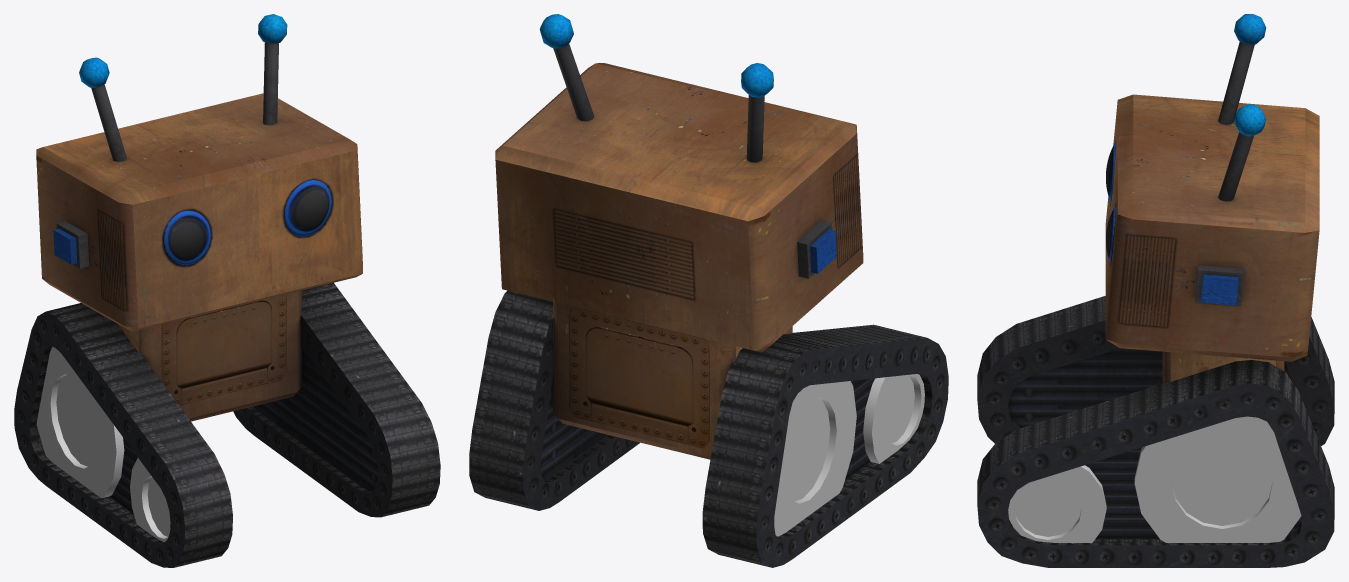
The model's file is TreadRobot.FBX.
3 views of the same model, side by side, from view 1: azimuth 30°, elevation 25°; view 2: azimuth 150°, elevation 25°; view 3: azimuth 270°, elevation 25° (orthographic). The views are drawn at different scales.
Parts seen in each view (by area): view 1: Object024, Object026, Object030, Object031, LeftPupil, RightPupil, RightIris, LeftIris; view 2: Object026, Object024, Object030, Object031; view 3: Object024, Object026, Object028, Object029.
Part boxes in pixels (<box>): Object024: <box>14,282,440,567</box>; Object026: <box>36,14,362,331</box>; Object030: <box>36,346,124,498</box>; Object031: <box>130,458,170,541</box>; LeftPupil: <box>289,185,329,232</box>; RightPupil: <box>168,216,207,261</box>; RightIris: <box>163,210,211,265</box>; LeftIris: <box>284,180,332,236</box>; Object026: <box>495,14,863,351</box>; Object024: <box>469,290,948,567</box>; Object030: <box>774,381,856,536</box>; Object031: <box>863,374,924,463</box>; Object024: <box>977,296,1334,567</box>; Object026: <box>1105,14,1319,361</box>; Object028: <box>1134,416,1301,542</box>; Object029: <box>1008,465,1106,542</box>.
Bounding box in the file's own units: 100 × 151 × 110.
